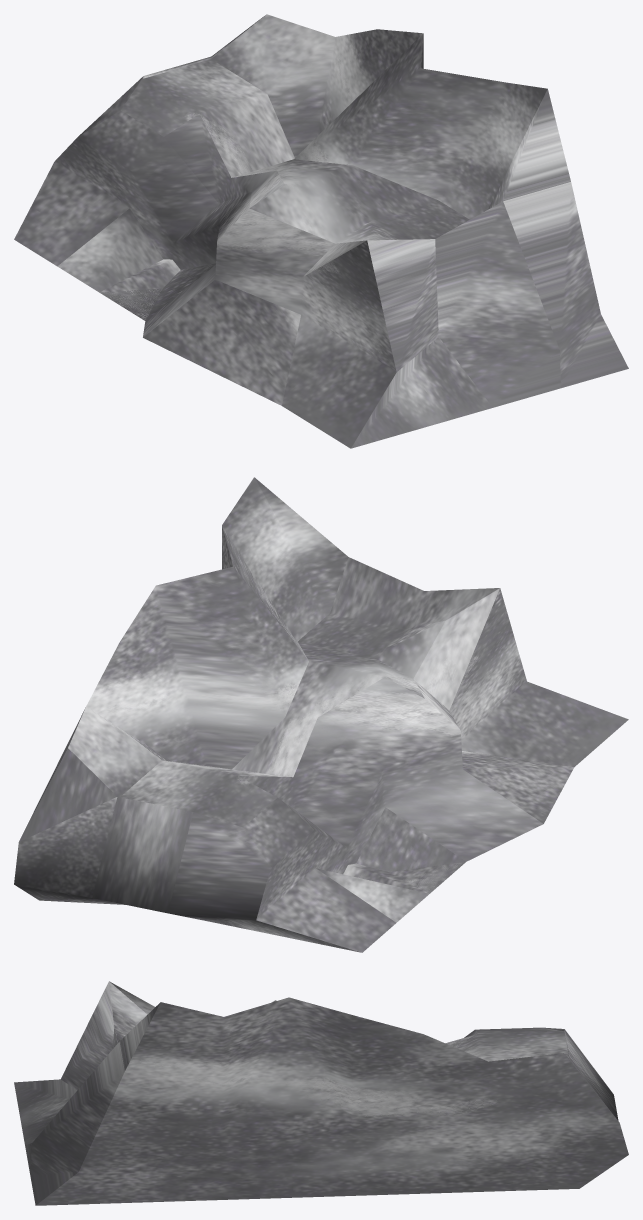
The model's file is Mountain14 - Level 1.FBX.
The picture shows the model from 3 angles, top to bottom: view 1: azimuth 30°, elevation 25°; view 2: azimuth 150°, elevation 25°; view 3: azimuth 270°, elevation 25°; orthographic projection. The views are drawn at different scales.
Visible parts, largest first — view 1: Mountain 14; view 2: Mountain 14; view 3: Mountain 14.
Part boxes in pixels (bbox=[...]): Mountain 14: bbox=[14, 14, 628, 448]; Mountain 14: bbox=[14, 477, 628, 952]; Mountain 14: bbox=[14, 981, 628, 1205].
Bounding box in the file's own units: 92.37 × 57.43 × 160.
1 material, 1 textured.
